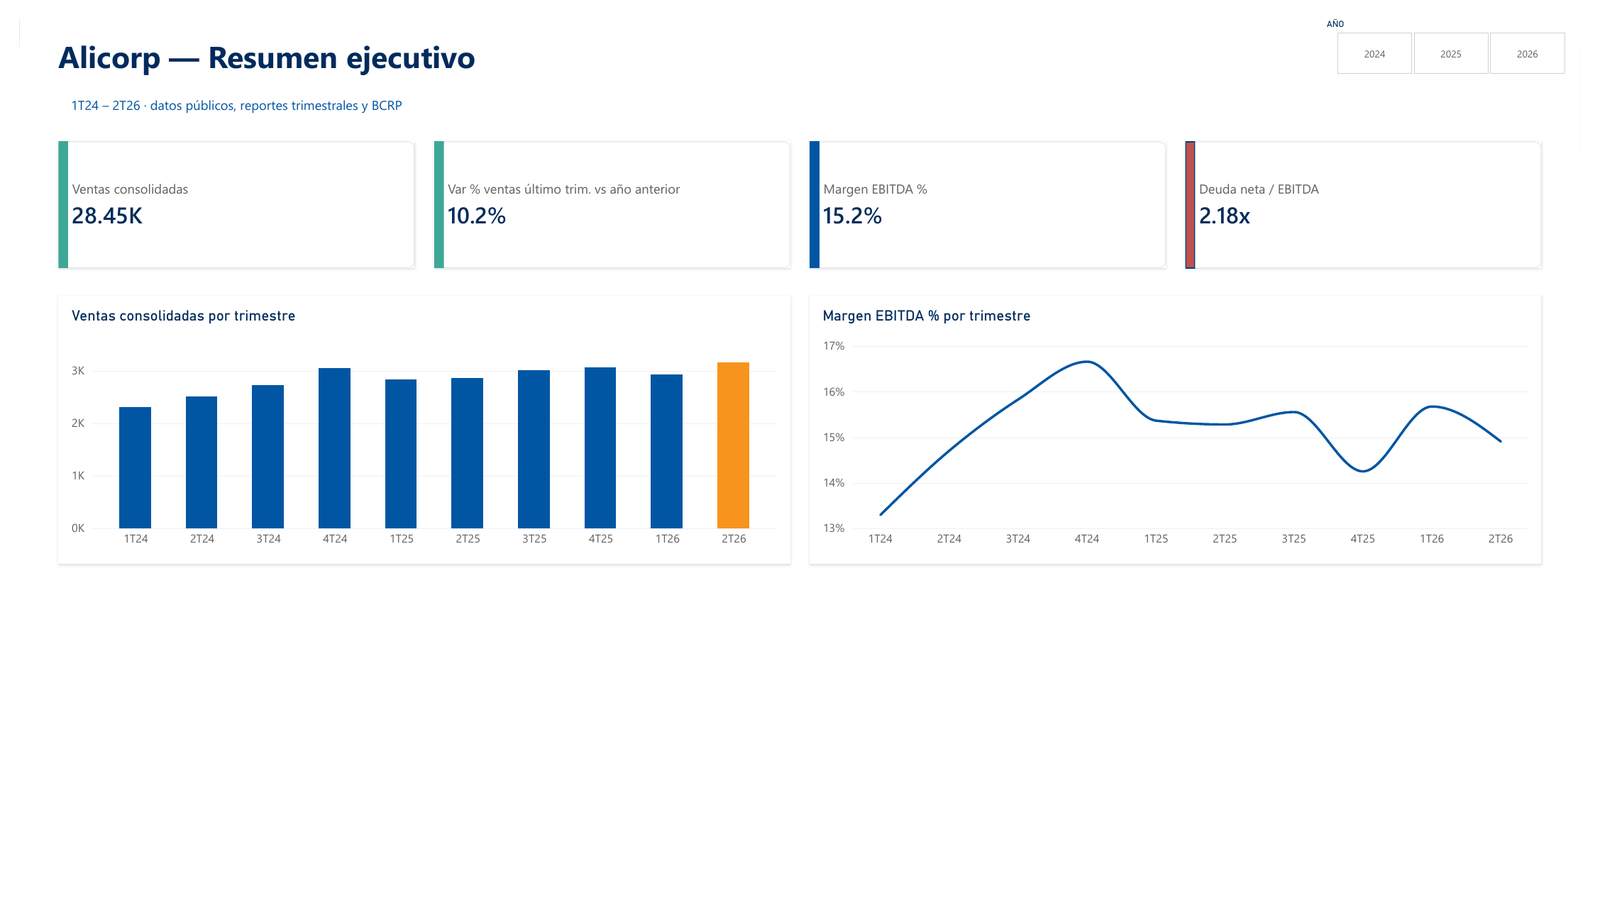

What the dashboard file says about the page in this screenshot:
{"tool":"powerbi","page":{"name":"Resumen Ejecutivo","canvas":[1920,1080],"ordinal":0},"visuals":[{"type":"cardVisual","fields":{"Data":["_Medidas.Ventas consolidadas"]},"box":[48,150,438,156],"z":0},{"type":"cardVisual","fields":{"Data":["_Medidas.Var % ventas ultimo trimestre"]},"box":[510,150,438,156],"z":1000},{"type":"cardVisual","fields":{"Data":["_Medidas.Margen EBITDA %"]},"box":[972,150,438,156],"z":2000},{"type":"cardVisual","fields":{"Data":["_Medidas.Deuda neta / EBITDA"]},"box":[1434,150,438,156],"z":3000},{"type":"clusteredColumnChart","title":"Ventas consolidadas por trimestre","fields":{"Category":["dim_trimestre.etiqueta"],"Y":["_Medidas.Ventas consolidadas"]},"box":[48,340,900,330],"z":4000},{"type":"lineChart","title":"Margen EBITDA % por trimestre","fields":{"Category":["dim_trimestre.etiqueta"],"Y":["_Medidas.Margen EBITDA %"]},"box":[972,340,900,330],"z":5000},{"type":"slicer","fields":{"Values":["dim_trimestre.anio"]},"box":[1600,0,320,68.6],"z":6000},{"type":"textbox","box":[48,20,700,70],"z":7000},{"type":"textbox","box":[48,95,700,30],"z":8000},{"type":"shape","box":[48,150,12,156],"z":9000},{"type":"shape","box":[510,150,12,156],"z":10000},{"type":"shape","box":[972,150,12,156],"z":11000},{"type":"shape","box":[1434,150,12,156],"z":12000}]}

Visuals, with their boxes in screenshot pixels (x1, y1, x2, y2), scaled from the page's 1920x1080 canvas onto the 1600x917 screenshot:
cardVisual - _Medidas.Ventas consolidadas: (x1=40, y1=127, x2=405, y2=260)
cardVisual - _Medidas.Var % ventas ultimo trimestre: (x1=425, y1=127, x2=790, y2=260)
cardVisual - _Medidas.Margen EBITDA %: (x1=810, y1=127, x2=1175, y2=260)
cardVisual - _Medidas.Deuda neta / EBITDA: (x1=1195, y1=127, x2=1560, y2=260)
"Ventas consolidadas por trimestre" clusteredColumnChart: (x1=40, y1=289, x2=790, y2=569)
"Margen EBITDA % por trimestre" lineChart: (x1=810, y1=289, x2=1560, y2=569)
slicer - dim_trimestre.anio: (x1=1333, y1=0, x2=1599, y2=58)
textbox: (x1=40, y1=17, x2=623, y2=76)
textbox: (x1=40, y1=81, x2=623, y2=106)
shape: (x1=40, y1=127, x2=50, y2=260)
shape: (x1=425, y1=127, x2=435, y2=260)
shape: (x1=810, y1=127, x2=820, y2=260)
shape: (x1=1195, y1=127, x2=1205, y2=260)
